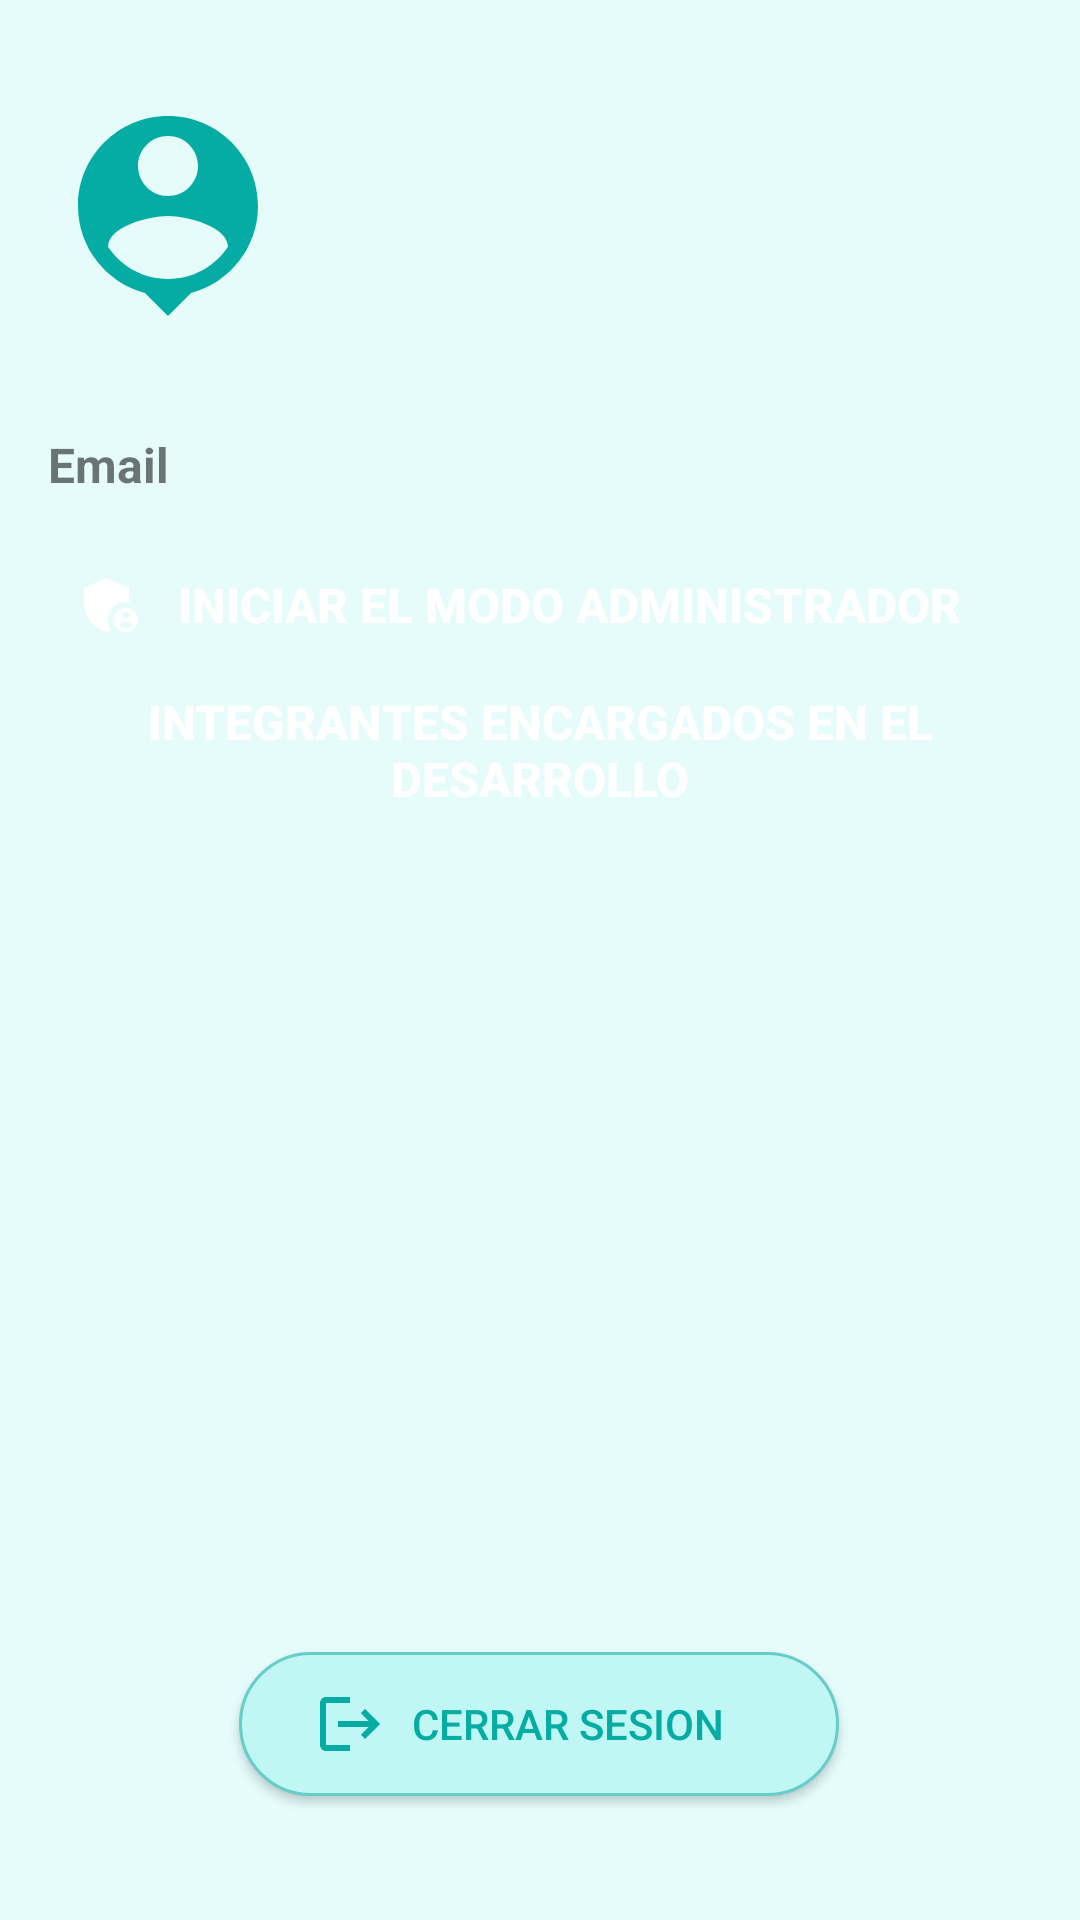

Named icons in this screenshot (1080 x 1920) and their bounding boxes, (x1, y1, x2, y2):
person pin: (78, 116, 258, 316)
